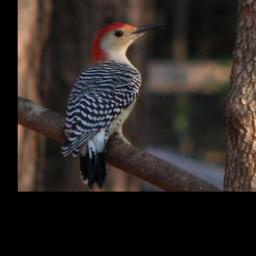Woodpecker: (59, 21, 167, 186)
